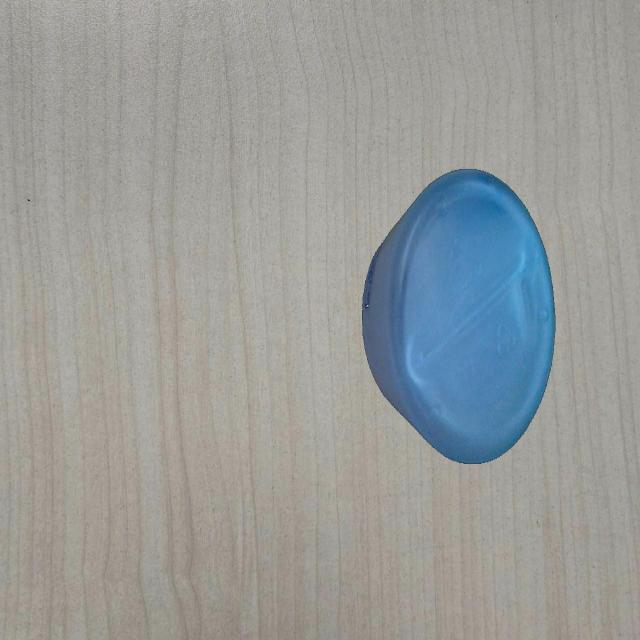bottle: (362, 165, 557, 468)
